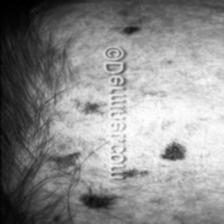Unclassified: (160, 144, 184, 162), (80, 196, 108, 210), (119, 23, 139, 37)
